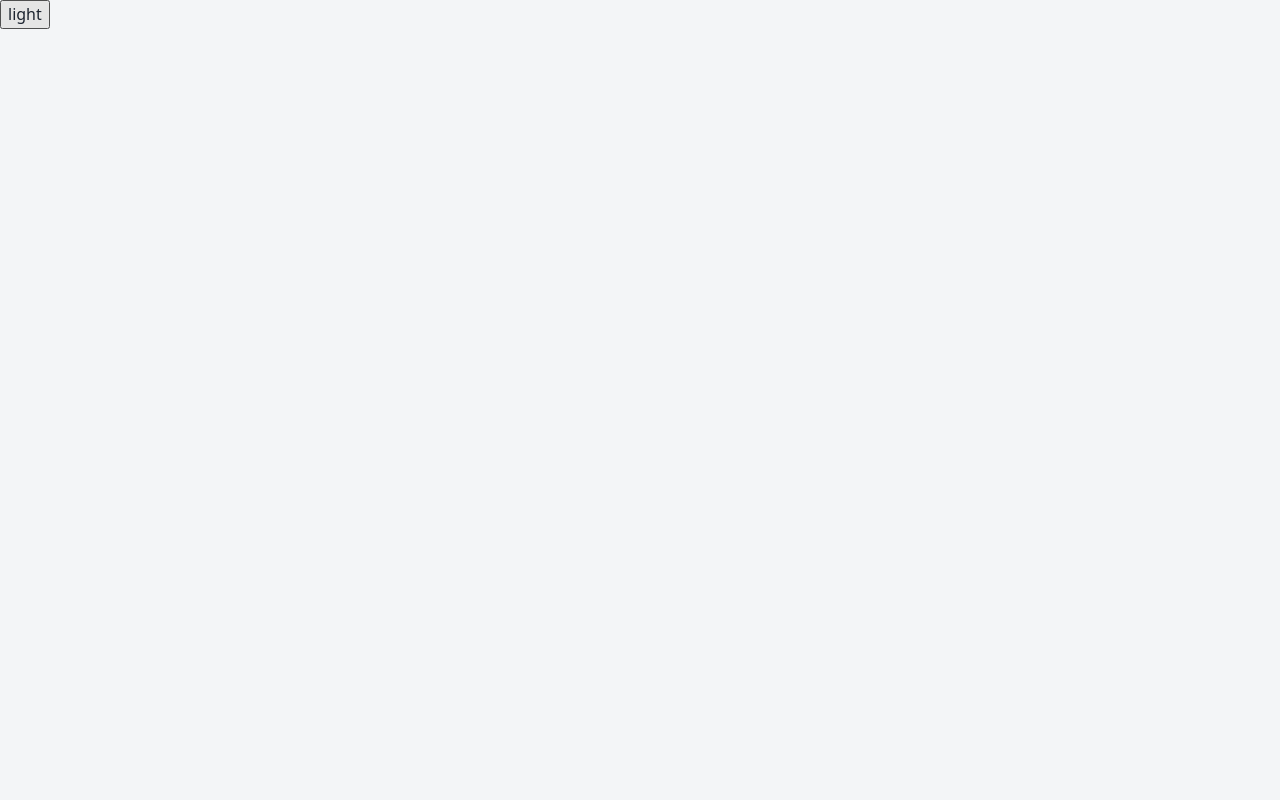
Test case: auto follows the system, explicit choice sets data-theme and is saved
Click the button: (25, 15) [0, 0, 50, 29]
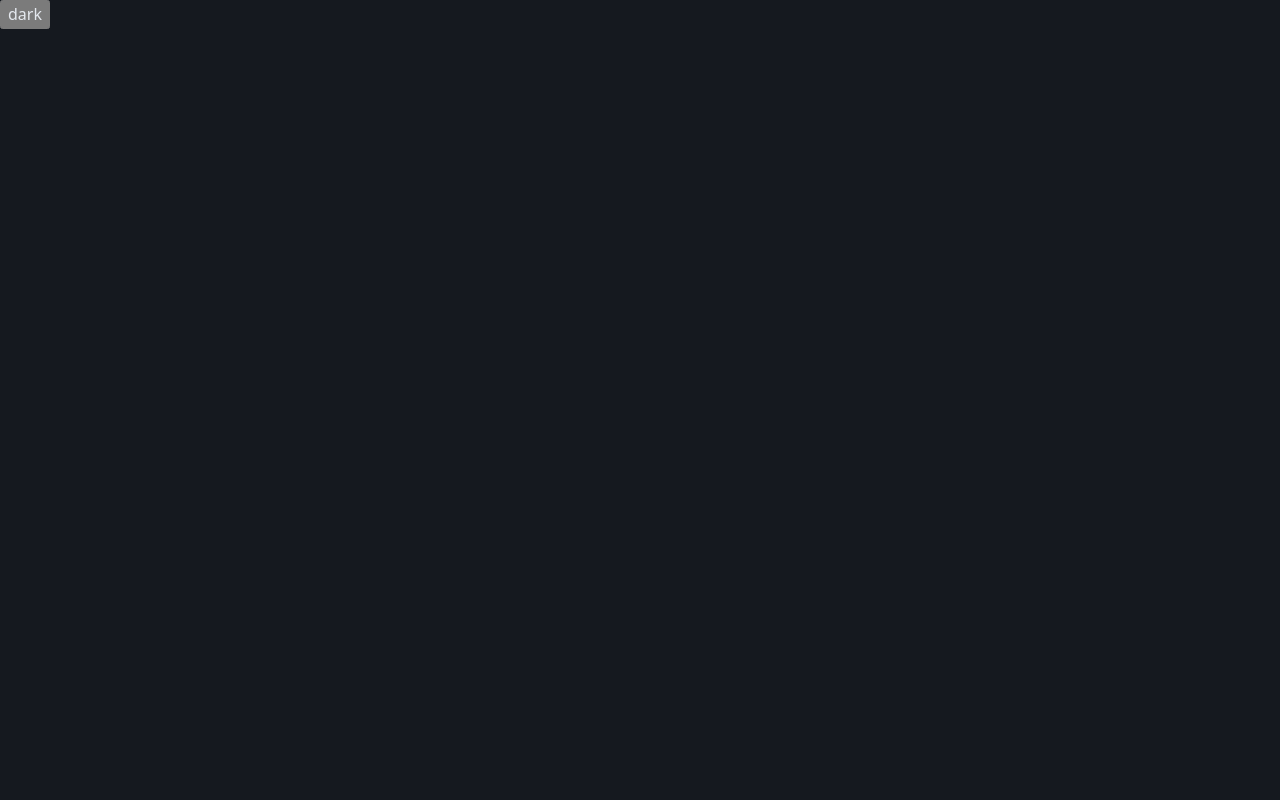
Check: the button reads "dark", box [0, 0, 50, 29]
